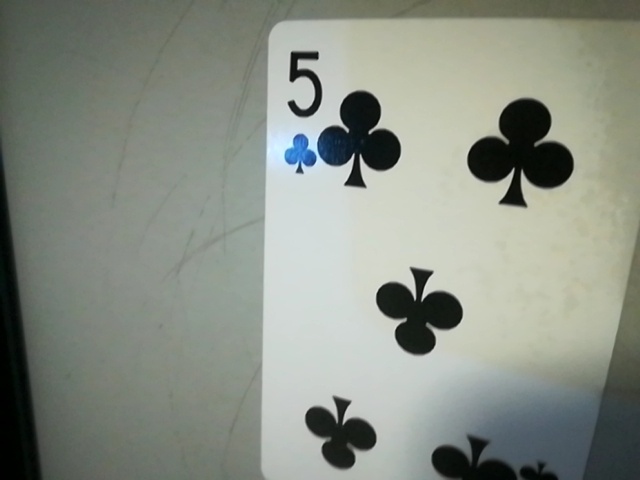mh 5: (270, 43, 328, 180)
